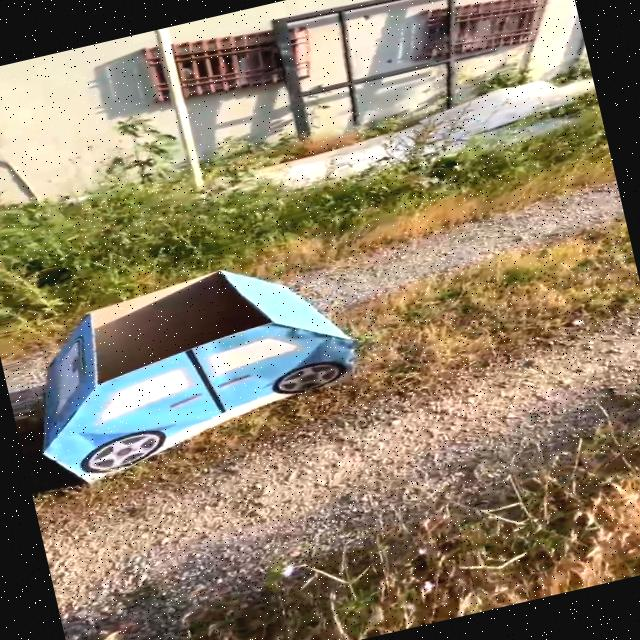blue_car: (0, 210, 430, 512)
